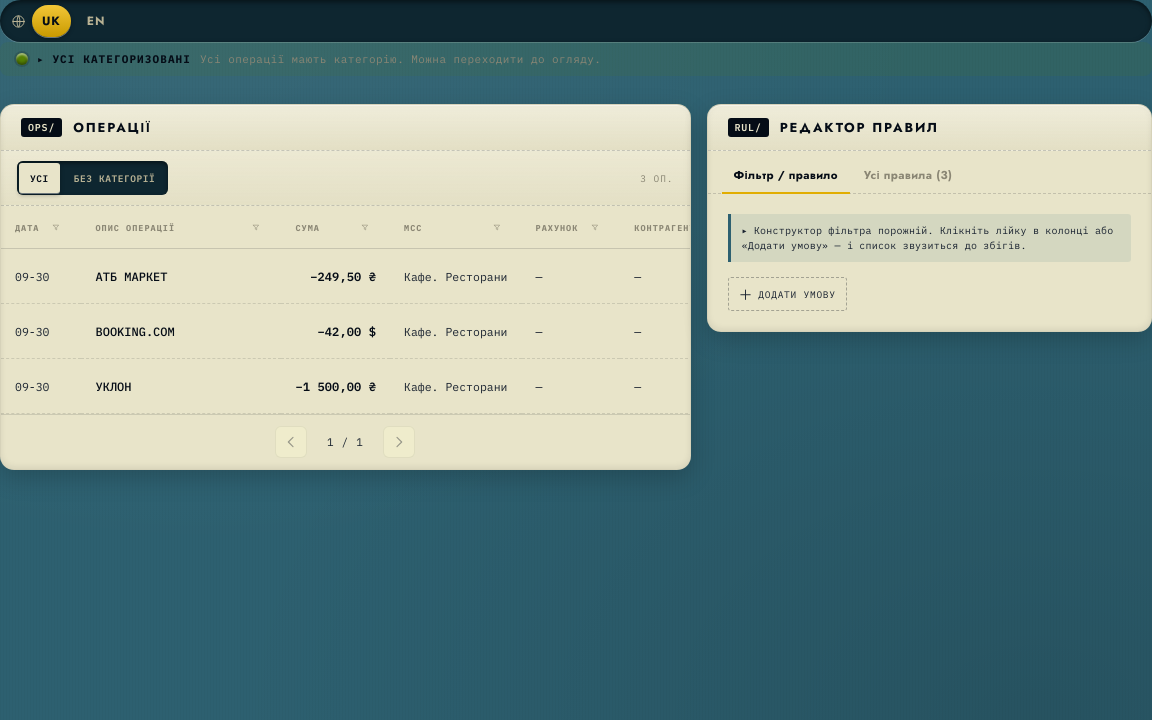
S3cCategorize — sandbox wiring (engage → banner → apply) › Apply clears the banner + the frame
Expected: the text "УКЛОН" is shown, [96,378,132,394]
Click the button "Усі правила (3)" at point(908, 176), box [852,159,964,194]
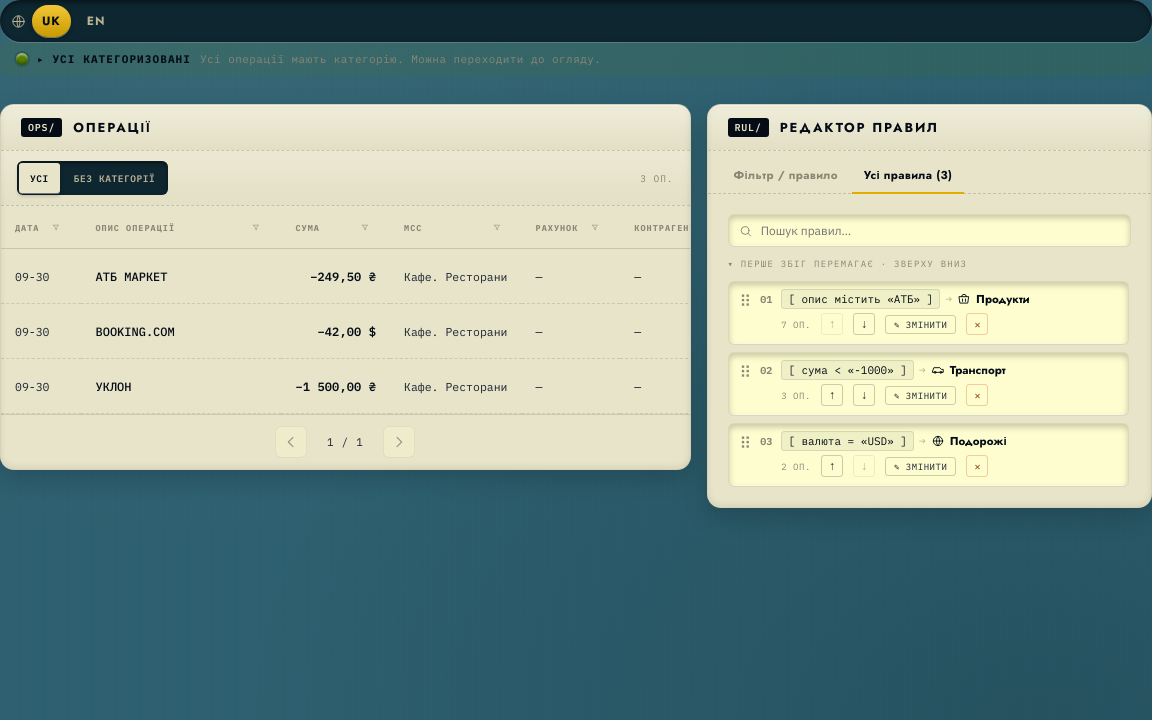
Click the button named "Вниз" at point(864, 324), box [853,313,875,335]
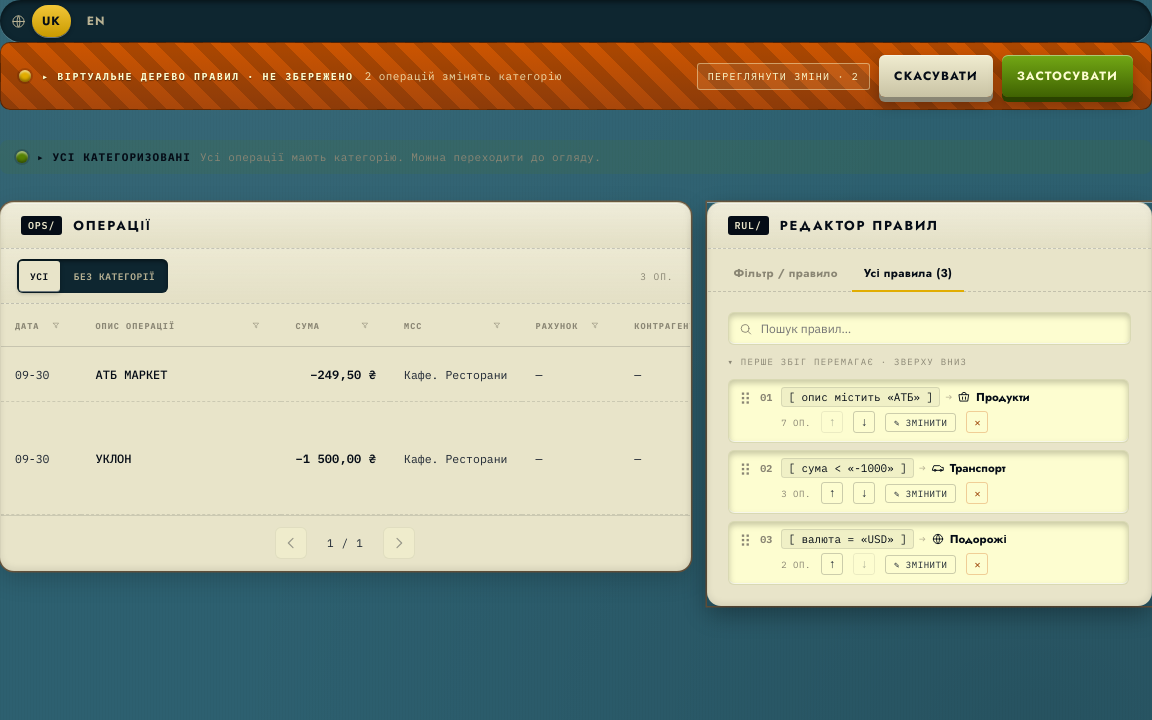
Expected: the element with test id "sandbox-bar" is shown, [0,42,1151,110]
# Apply → the worker commits + the session reloads live
Click the button "Застосувати" at point(1067, 76), box [1002,55,1133,97]
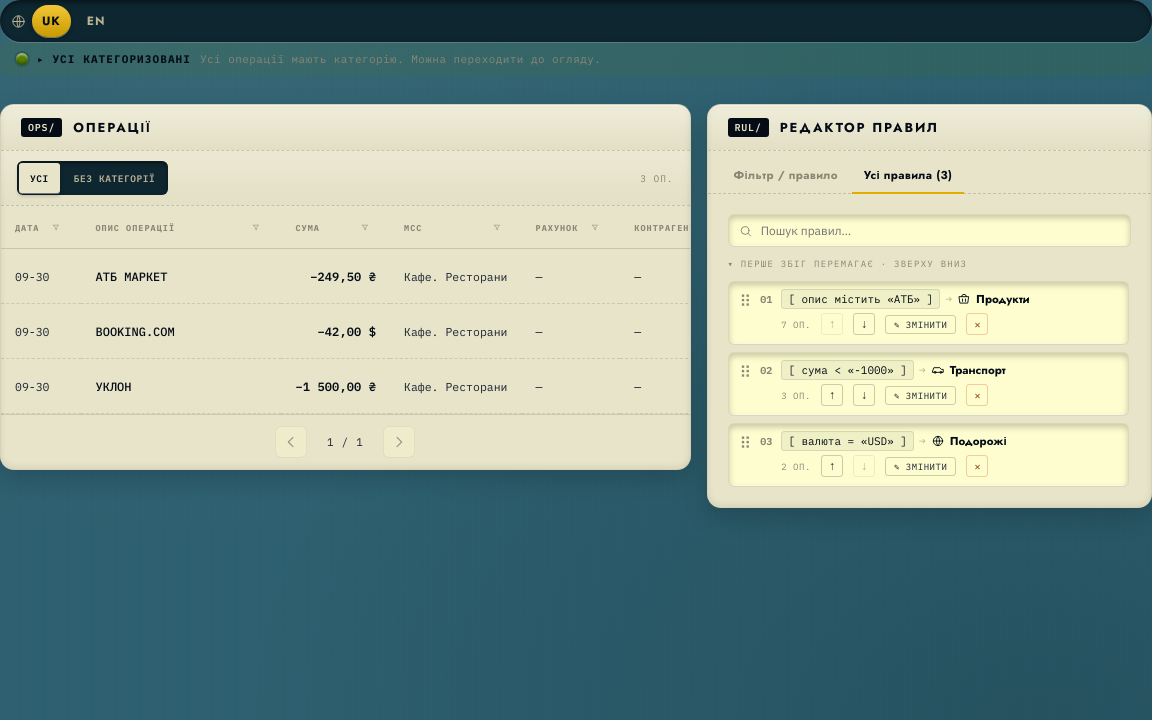
Expected: the element with test id "sandbox-bar" is gone
